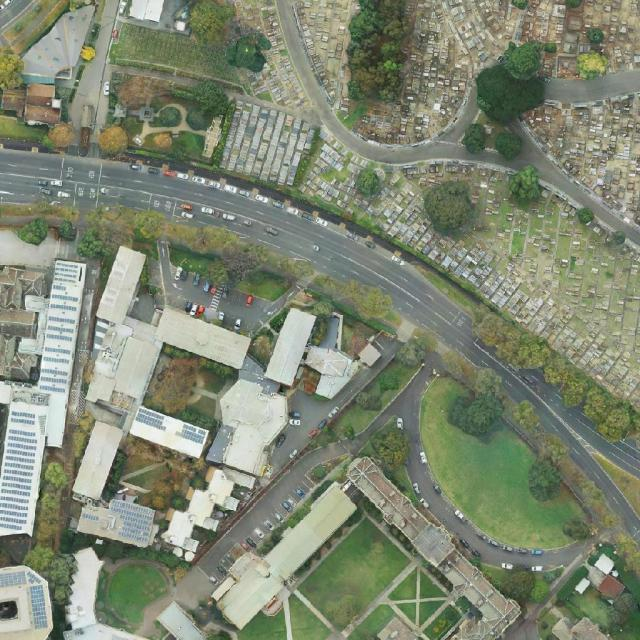building: (201, 481, 374, 635), (156, 452, 258, 562), (29, 259, 87, 448), (202, 375, 296, 479), (81, 311, 168, 419), (153, 306, 252, 370), (0, 266, 49, 381), (292, 338, 362, 406), (128, 405, 211, 460), (94, 245, 149, 327), (76, 492, 158, 547), (263, 306, 317, 387), (72, 421, 125, 501), (0, 565, 53, 639), (579, 548, 634, 604), (0, 83, 62, 126), (319, 311, 371, 360), (156, 600, 210, 640), (235, 356, 285, 398), (17, 294, 50, 357), (355, 336, 383, 369), (128, 0, 163, 22)
greenland: (384, 368, 590, 574), (467, 299, 640, 454), (154, 207, 316, 318), (297, 519, 411, 633), (108, 20, 251, 91), (106, 434, 203, 521), (509, 393, 578, 504), (107, 72, 232, 133), (335, 354, 417, 438), (94, 550, 175, 631), (442, 346, 509, 443), (474, 41, 547, 126), (307, 268, 408, 329), (110, 115, 209, 177), (59, 528, 189, 575), (552, 451, 622, 538), (20, 532, 92, 607), (485, 552, 554, 615), (150, 350, 207, 419), (85, 202, 168, 249), (388, 567, 449, 628), (30, 460, 72, 548), (0, 200, 80, 246), (593, 442, 640, 516), (368, 423, 414, 497), (422, 179, 477, 238), (572, 201, 630, 253), (185, 0, 236, 48), (393, 323, 441, 374), (223, 27, 273, 75), (347, 600, 400, 640), (503, 163, 549, 208), (66, 410, 98, 460), (571, 45, 612, 84), (553, 564, 591, 605), (93, 121, 132, 160), (238, 611, 286, 640), (44, 118, 81, 154), (491, 127, 527, 162), (350, 165, 386, 200), (176, 405, 221, 432), (560, 514, 594, 548), (195, 356, 236, 382), (459, 123, 489, 157), (77, 228, 110, 258), (0, 48, 24, 89), (317, 421, 356, 446), (616, 566, 640, 603), (161, 343, 193, 364), (584, 24, 608, 48)
metalled_road: (160, 428, 353, 613), (437, 512, 589, 586), (383, 368, 451, 524), (65, 0, 118, 145), (213, 284, 284, 340), (343, 407, 399, 458), (167, 281, 209, 309), (158, 241, 173, 306)
